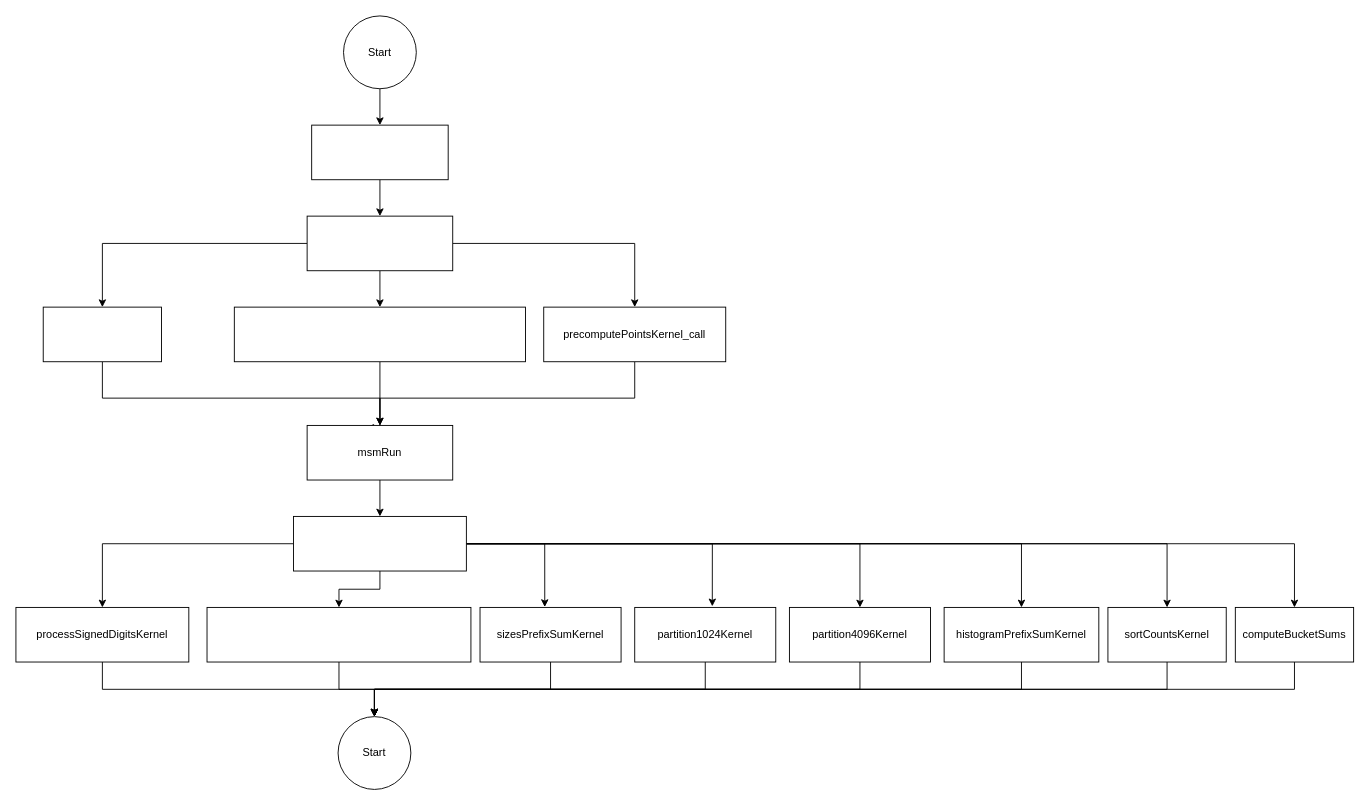
Some shapes in this 1370 by 805 pixel diagram are drawn without their labels. Each missing label, with the box of its shape:
Buffer_initialization(msmPreprocessPoints): (233, 306, 526, 362)
Buffer_initialization(msmRun): (293, 516, 466, 571)
GPU initialization(wgsl): (311, 124, 448, 180)
initializeCountersSizesAtomicsHistogramKernel: (206, 607, 471, 662)
initializeGPU: (42, 306, 162, 362)
msmPreprocessPoints: (306, 215, 453, 271)
